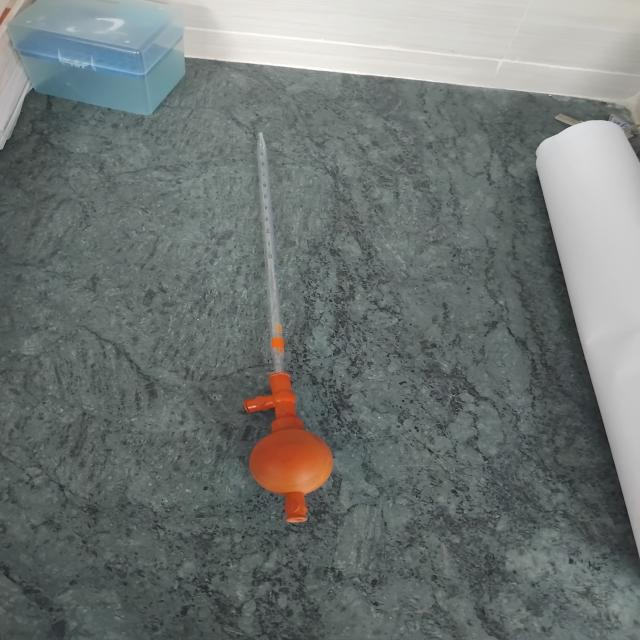Volumetric_Pipet: (202, 102, 364, 545)
